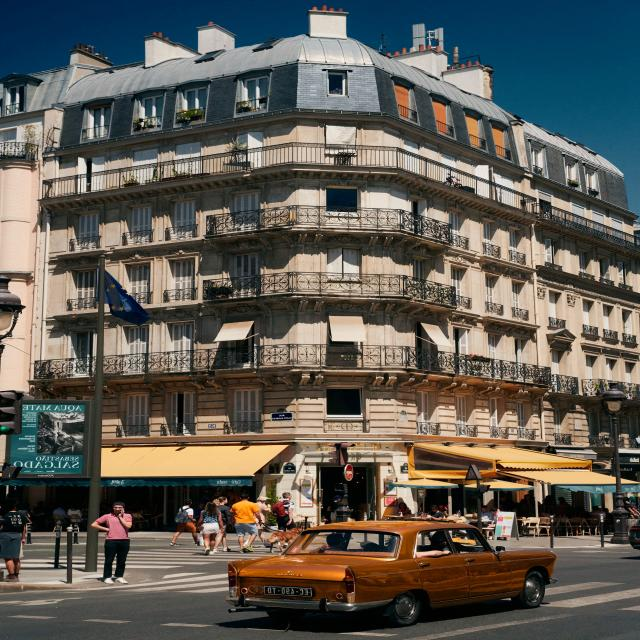adult: (91, 502, 132, 584), (0, 498, 26, 582), (233, 494, 262, 552), (170, 499, 198, 546), (199, 502, 224, 554), (214, 497, 233, 552), (277, 492, 296, 532), (469, 505, 492, 526), (328, 495, 342, 523), (326, 534, 346, 550), (487, 508, 500, 529), (427, 505, 443, 520), (396, 502, 411, 515)
